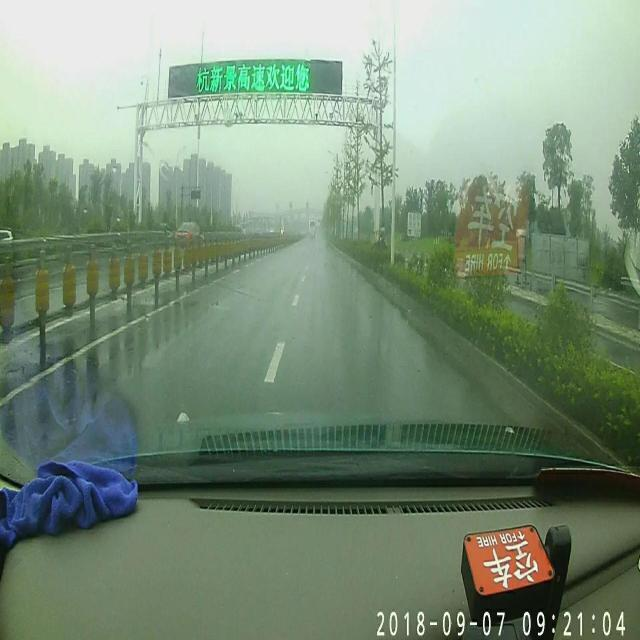car: (174, 220, 204, 248)
